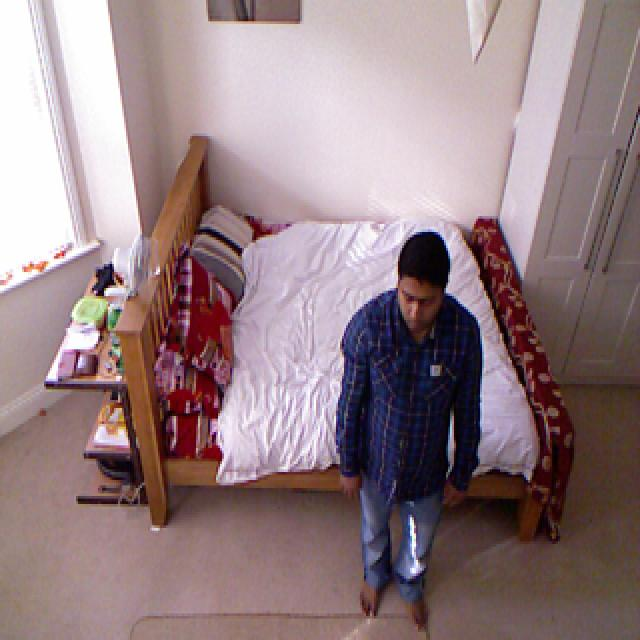standing: (337, 230, 487, 632)
